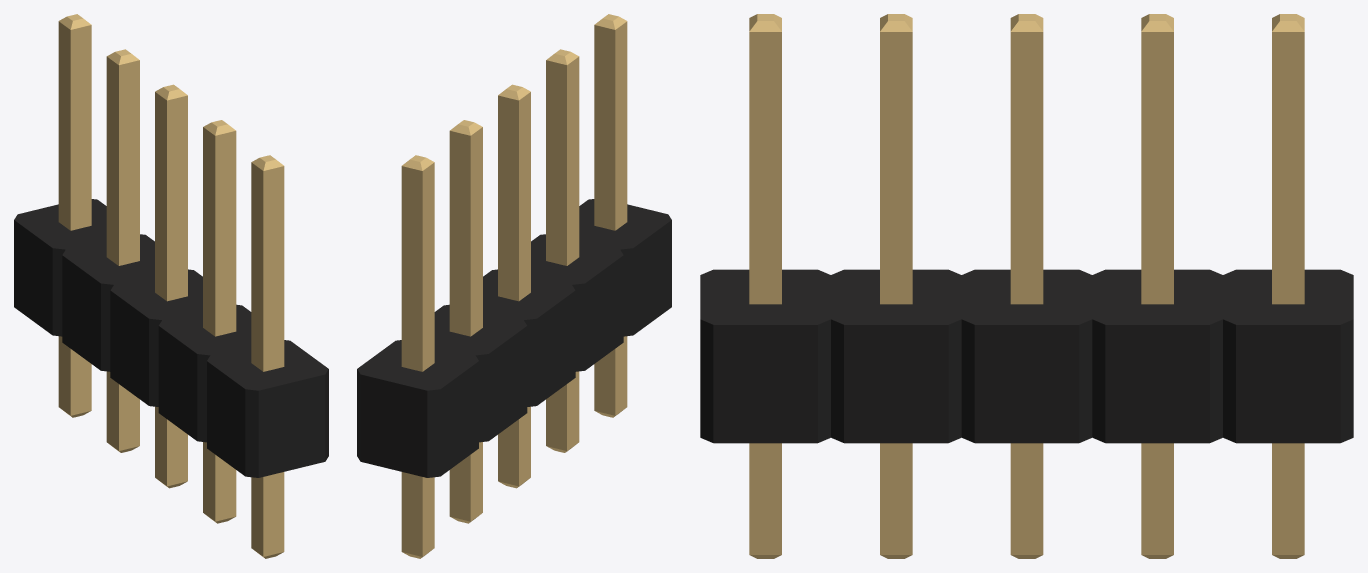
Rendered from PinHeader_1x05_P2.54mm_Vertical.glb.
3 renders of one model, left to right at view 1: azimuth 30°, elevation 25°; view 2: azimuth 150°, elevation 25°; view 3: azimuth 270°, elevation 25°, orthographic. The views are drawn at different scales.
Visible parts, largest first — view 1: =>[0:1:1:3]; view 2: =>[0:1:1:3]; view 3: =>[0:1:1:3].
Part boxes in pixels (x1,y1,x2,y2): =>[0:1:1:3]: (14,14,328,558); =>[0:1:1:3]: (357,14,671,558); =>[0:1:1:3]: (700,14,1353,558).
Size of the model in its own units: 0.00254 by 0.0115 by 0.0127.
